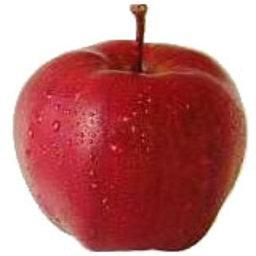apple: (13, 11, 247, 251)
